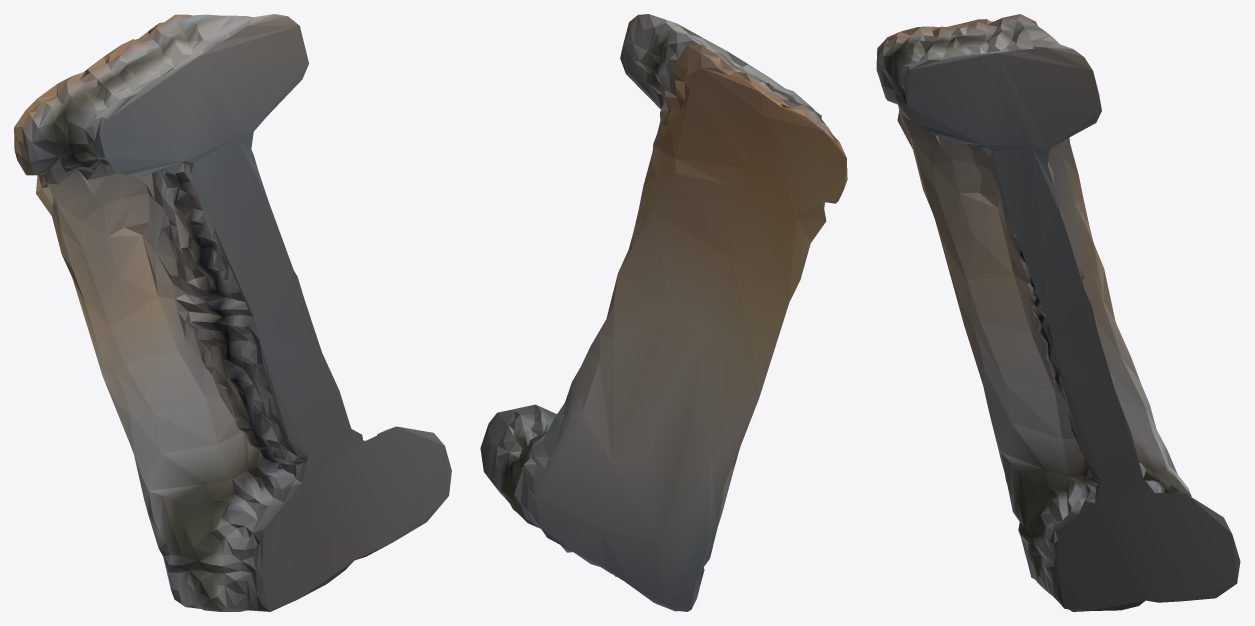
The model's file is puerta_ojival.glb.
The picture shows the model from 3 angles, left to right: view 1: azimuth 30°, elevation 25°; view 2: azimuth 150°, elevation 25°; view 3: azimuth 330°, elevation 25°; orthographic projection. The views are drawn at different scales.
Parts seen in each view (by area): view 1: Modelo; view 2: Modelo; view 3: Modelo.
Boxes of the visible parts, x1,y1,x2,y2 form: Modelo: [14, 14, 451, 611]; Modelo: [480, 14, 847, 611]; Modelo: [876, 14, 1240, 611].
Bounding box in the file's own units: 4.27 × 6 × 0.5938.
